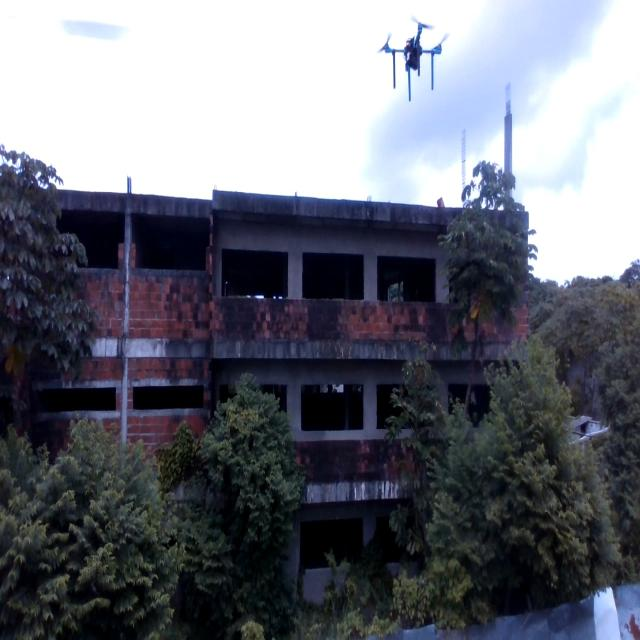-uav-: (375, 8, 453, 106)
